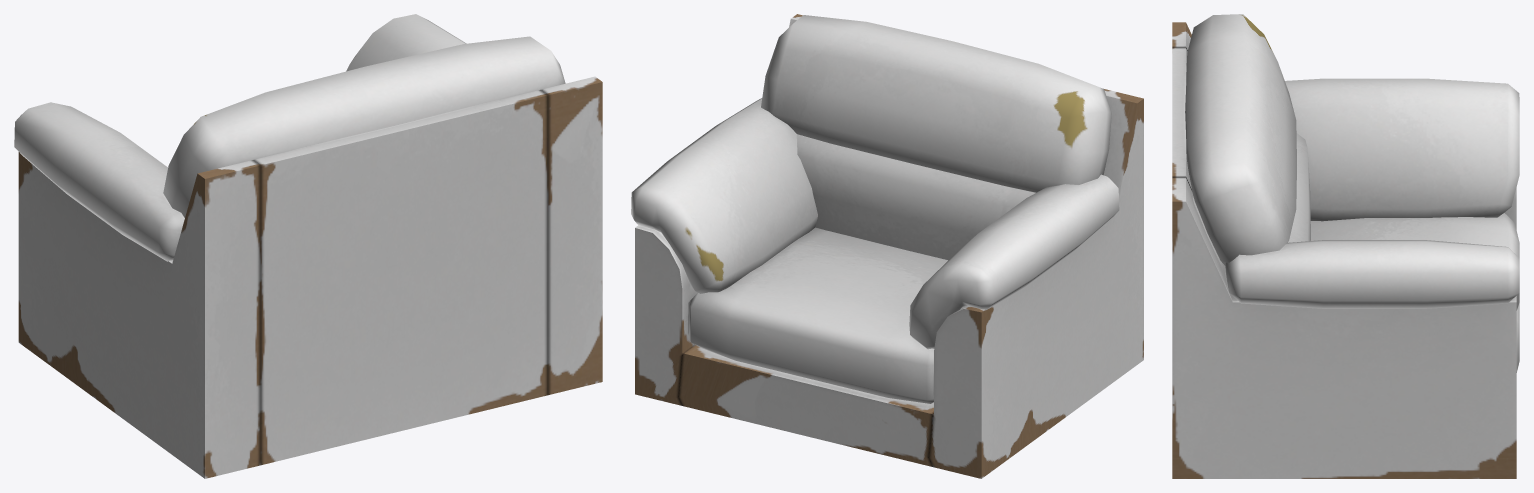
The model's file is Pfb_Sofa.fbx.
3 renders of one model, left to right at view 1: azimuth 30°, elevation 25°; view 2: azimuth 150°, elevation 25°; view 3: azimuth 270°, elevation 25°, orthographic. The views are drawn at different scales.
Visible parts, largest first — view 1: MAT_Sofa_Red; view 2: MAT_Sofa_Red; view 3: MAT_Sofa_Red.
Part boxes in pixels (x1,y1,x2,y2): MAT_Sofa_Red: [14, 14, 602, 478]; MAT_Sofa_Red: [631, 14, 1143, 478]; MAT_Sofa_Red: [1172, 14, 1519, 478].
Bounding box in the file's own units: 1.58 × 1.2 × 1.22.
Materials: 1 (1 with a texture image).
